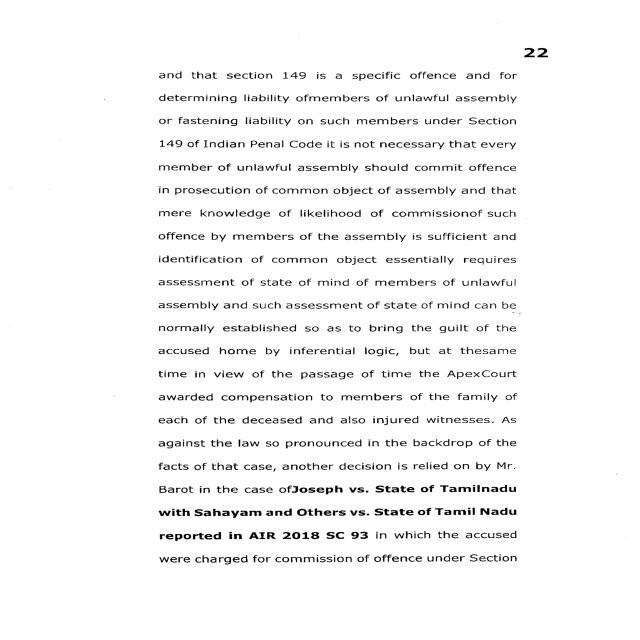page-number: (436, 0, 634, 66)
